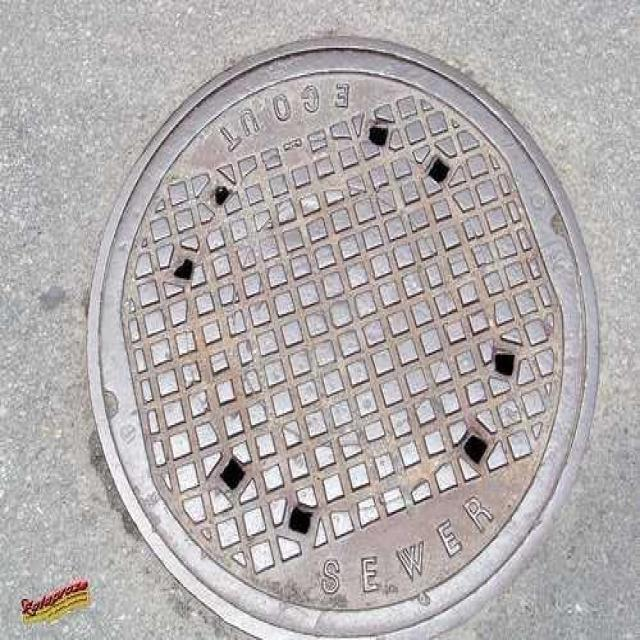manhole: (89, 38, 598, 636)
